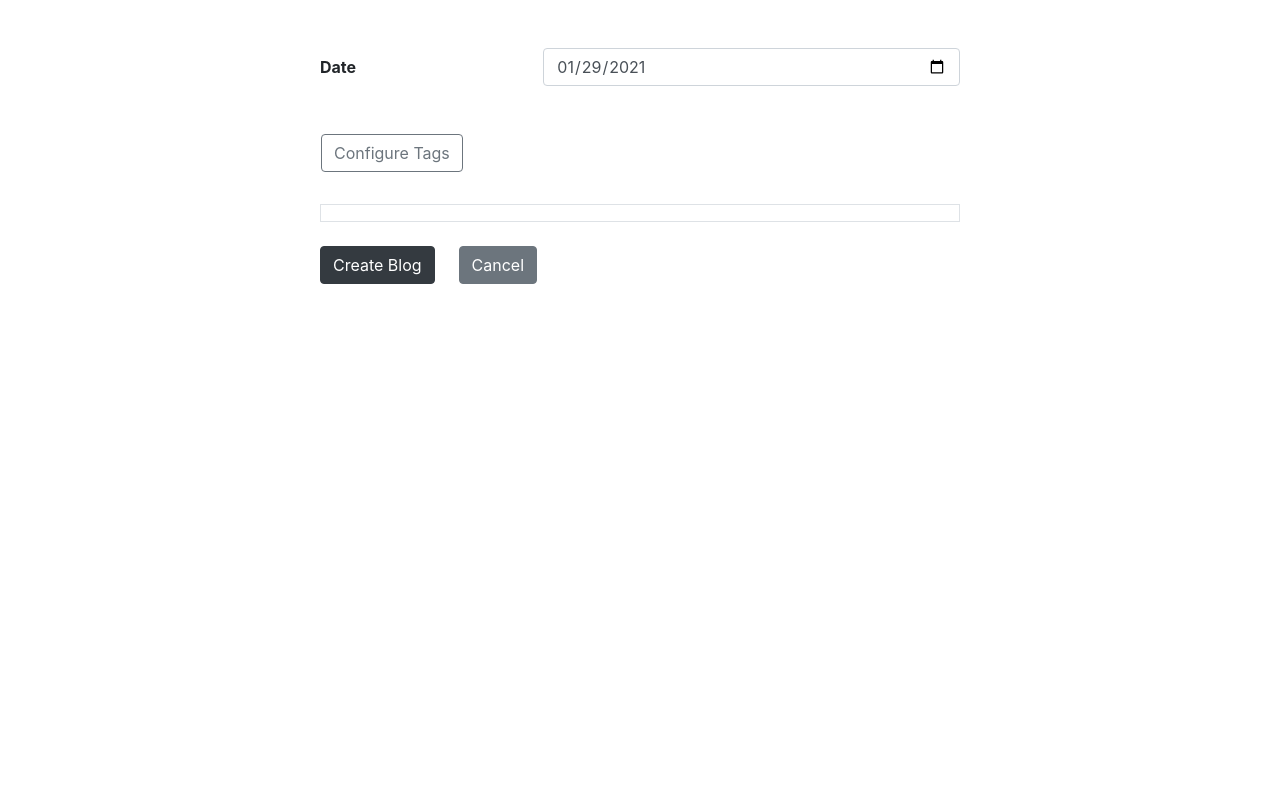
given tags are edited › should show all available tags in modal
Click the button "Configure Tags" at {"x": 392, "y": 153}, box [321,134,463,172]
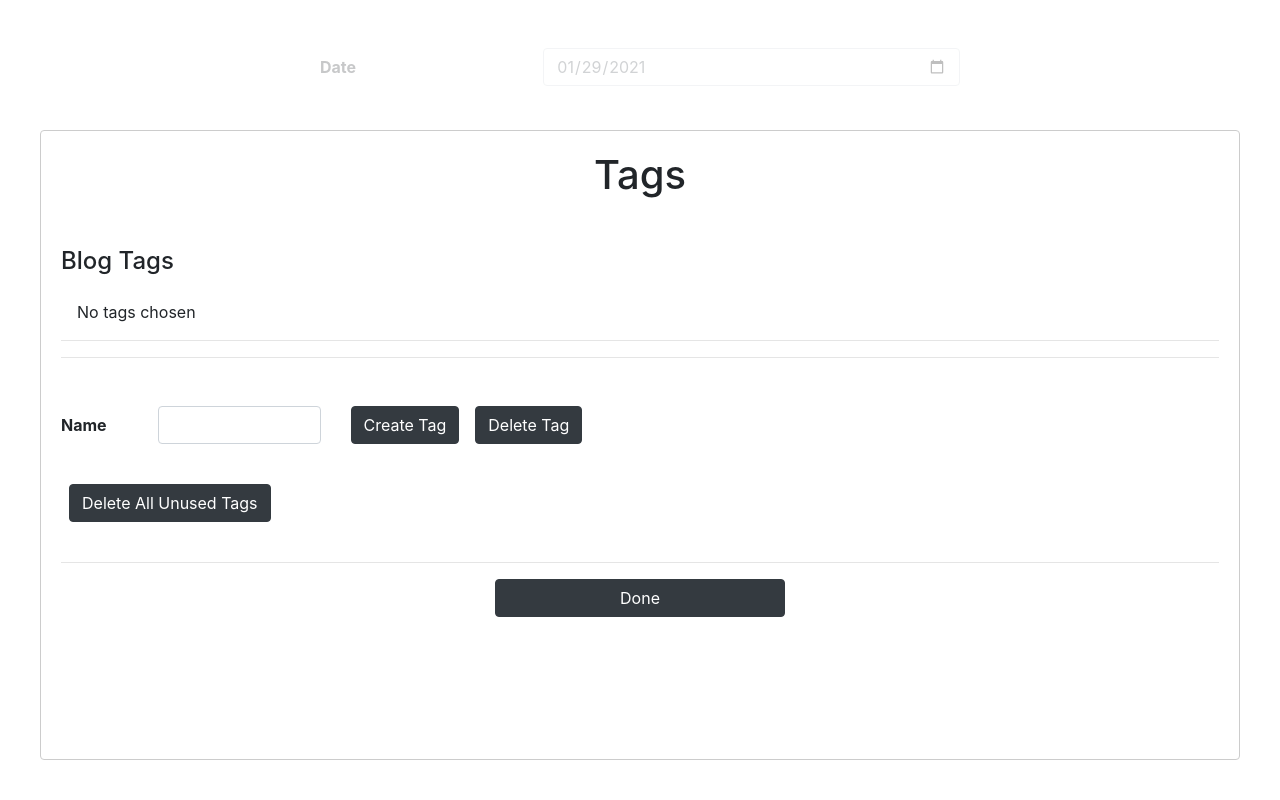
Expected: the heading "Tags" is shown, [594,150,686,199]
